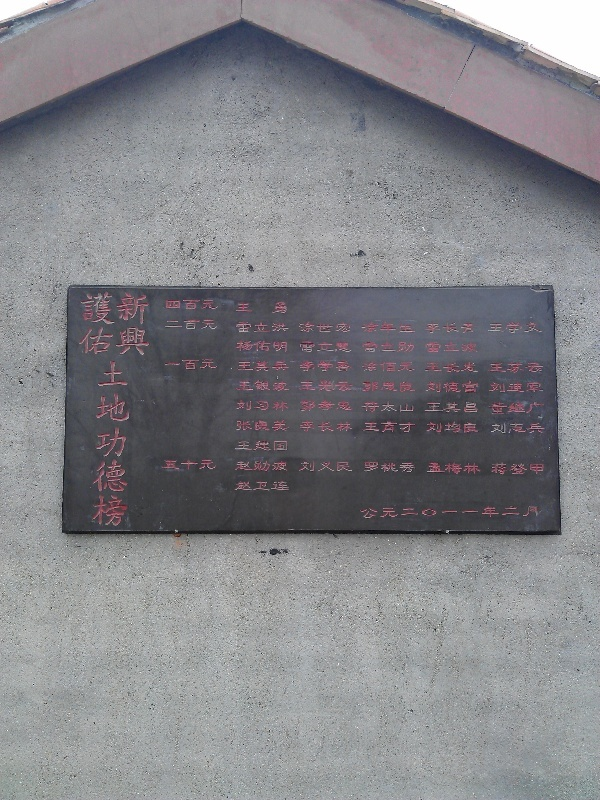text: (97, 358, 112, 528), (113, 358, 128, 528), (129, 290, 144, 357), (81, 291, 96, 355), (97, 291, 112, 355), (129, 358, 133, 528), (118, 290, 128, 357), (145, 290, 152, 357), (273, 339, 289, 353), (241, 339, 256, 353), (257, 339, 272, 353), (369, 506, 384, 520), (385, 506, 400, 520), (401, 506, 416, 520), (417, 506, 432, 520), (433, 506, 448, 520), (449, 506, 464, 520), (465, 506, 480, 520), (481, 506, 496, 520), (497, 506, 512, 520), (513, 506, 528, 520), (433, 380, 448, 394), (449, 380, 464, 394), (529, 402, 545, 415), (337, 420, 353, 433), (529, 463, 545, 476), (465, 380, 479, 394), (177, 298, 192, 311), (193, 298, 208, 311), (177, 358, 192, 371), (193, 358, 208, 371), (241, 301, 256, 314), (257, 301, 272, 314), (273, 301, 288, 314), (369, 321, 384, 334), (385, 321, 400, 334), (401, 321, 416, 334), (497, 322, 512, 335), (513, 322, 528, 335), (305, 360, 320, 373), (321, 360, 336, 373), (337, 360, 352, 373), (497, 402, 512, 415), (513, 402, 528, 415), (305, 420, 320, 433), (321, 420, 336, 433), (497, 463, 512, 476), (513, 463, 528, 476), (273, 440, 289, 452), (113, 291, 116, 355), (337, 341, 353, 353), (529, 322, 543, 335), (177, 319, 192, 331), (193, 319, 208, 331), (241, 380, 256, 392), (257, 380, 272, 392), (273, 380, 288, 392), (241, 400, 256, 412), (257, 400, 272, 412), (273, 400, 288, 412), (241, 420, 256, 432), (257, 420, 272, 432), (273, 420, 288, 432), (241, 440, 256, 452), (257, 440, 272, 452), (177, 459, 192, 471), (193, 459, 208, 471), (305, 321, 320, 333), (321, 321, 336, 333), (433, 322, 448, 334), (449, 322, 464, 334), (305, 341, 320, 353), (321, 341, 336, 353), (497, 362, 512, 374), (513, 362, 528, 374), (529, 362, 544, 374), (305, 380, 320, 392), (321, 380, 336, 392), (337, 380, 352, 392), (369, 381, 384, 393), (385, 381, 400, 393), (401, 381, 416, 393), (305, 400, 320, 412), (321, 400, 336, 412), (337, 400, 352, 412), (369, 401, 384, 413), (385, 401, 400, 413), (433, 422, 448, 434), (449, 422, 464, 434), (465, 422, 480, 434), (497, 423, 512, 435), (513, 423, 528, 435), (529, 423, 544, 435), (369, 462, 384, 474), (385, 462, 400, 474), (401, 462, 416, 474), (433, 463, 448, 475), (449, 463, 464, 475), (465, 463, 480, 475), (529, 382, 545, 393), (401, 422, 417, 433), (273, 461, 289, 472), (337, 461, 353, 472), (162, 459, 176, 471), (337, 321, 351, 333), (401, 401, 415, 413), (241, 481, 256, 492), (257, 481, 272, 492), (273, 481, 288, 492), (241, 322, 256, 333), (257, 322, 272, 333), (273, 322, 288, 333), (369, 342, 384, 353), (385, 342, 400, 353), (433, 342, 448, 353), (449, 342, 464, 353), (241, 361, 256, 372), (257, 361, 272, 372), (273, 361, 288, 372), (433, 362, 448, 373), (449, 362, 464, 373), (465, 362, 480, 373), (497, 382, 512, 393), (513, 382, 528, 393), (433, 402, 448, 413), (449, 402, 464, 413), (369, 422, 384, 433), (385, 422, 400, 433), (241, 461, 256, 472), (257, 461, 272, 472), (305, 461, 320, 472), (321, 461, 336, 472), (164, 358, 176, 371), (529, 506, 540, 520), (401, 342, 415, 353), (465, 342, 479, 353), (465, 402, 479, 413), (369, 362, 384, 372), (385, 362, 400, 372), (401, 362, 416, 372), (465, 322, 477, 334), (165, 298, 176, 311), (209, 298, 220, 311), (165, 319, 176, 331), (209, 358, 219, 371), (360, 506, 368, 520), (209, 319, 218, 331), (488, 322, 496, 335), (488, 402, 496, 415), (209, 459, 217, 471), (488, 362, 496, 374), (361, 321, 368, 334), (425, 322, 432, 334), (426, 380, 432, 394), (361, 401, 368, 413), (425, 342, 432, 353), (425, 362, 432, 373), (489, 382, 496, 393), (425, 402, 432, 413), (362, 381, 368, 393), (426, 422, 432, 434), (235, 339, 240, 353), (234, 481, 240, 492), (362, 342, 368, 353), (362, 422, 368, 433), (298, 461, 304, 472), (491, 463, 496, 476), (235, 440, 240, 452), (299, 321, 304, 333), (299, 341, 304, 353), (362, 362, 368, 372), (299, 380, 304, 392), (491, 423, 496, 435), (427, 463, 432, 475), (235, 461, 240, 472), (300, 360, 304, 373), (300, 420, 304, 433), (236, 380, 240, 392), (236, 400, 240, 412), (236, 420, 240, 432), (300, 400, 304, 412), (364, 462, 368, 474), (236, 322, 240, 333), (237, 301, 240, 314), (237, 361, 240, 372), (289, 380, 290, 392), (289, 400, 290, 412), (289, 420, 290, 432), (353, 380, 354, 392), (353, 400, 354, 412), (545, 423, 546, 435), (481, 463, 482, 475), (289, 481, 290, 492), (289, 322, 290, 333), (289, 361, 290, 372)
